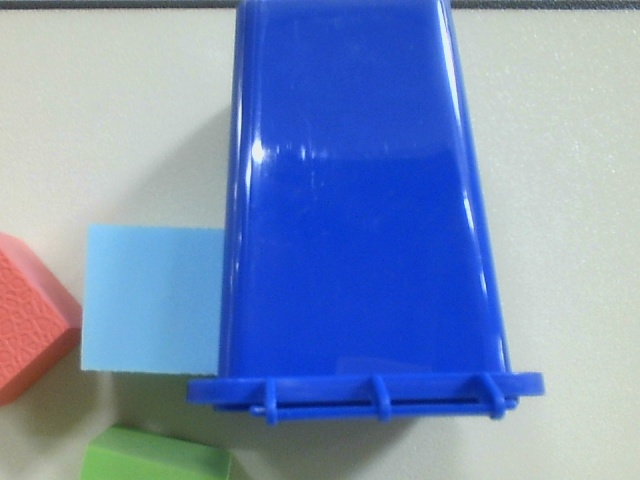greencube: (70, 420, 247, 480)
